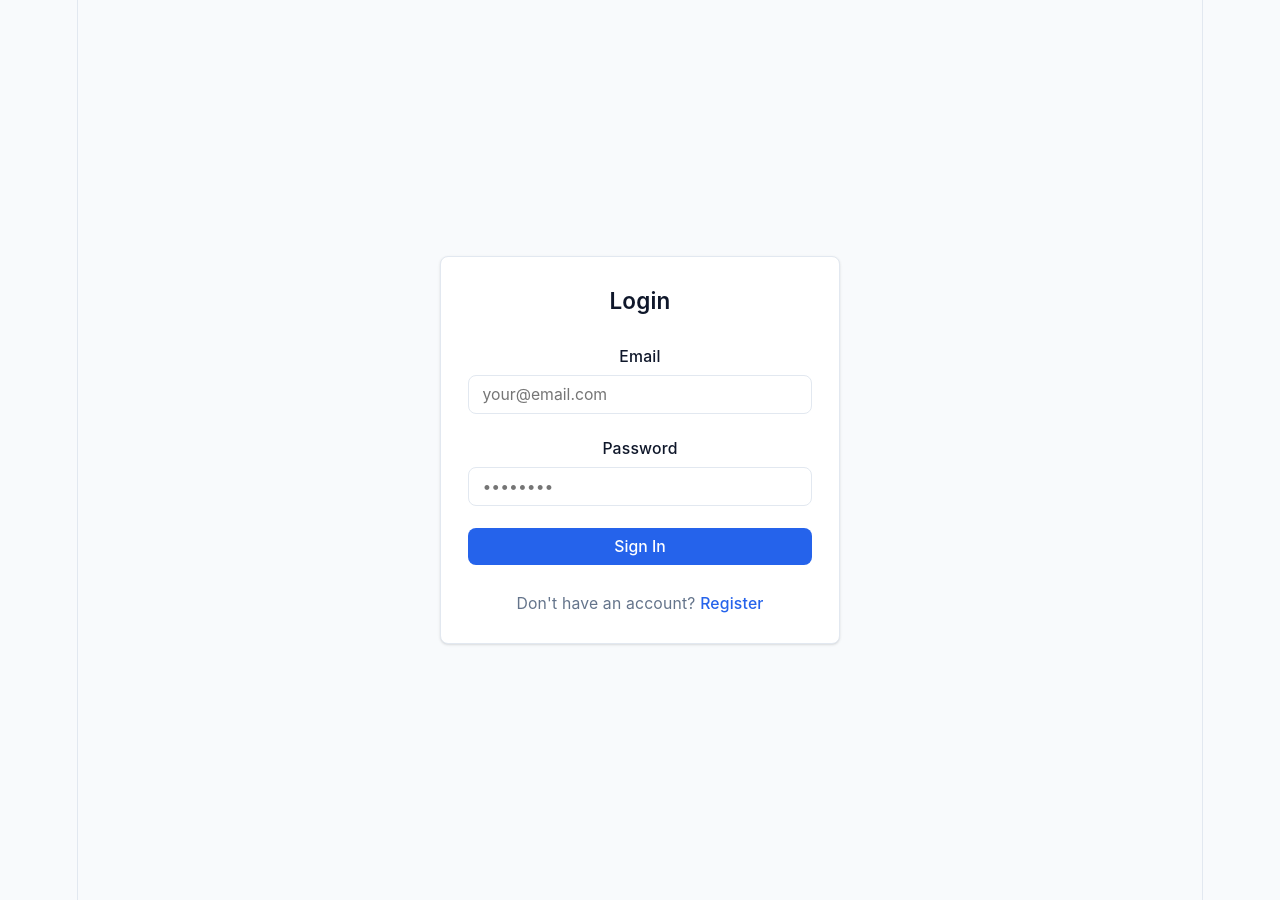
Test: Login Component › should show error messages for invalid input
The width and height of the screenshot is (1280, 900).
Click the button "Sign In" at (640, 547), box [468,528,812,565]
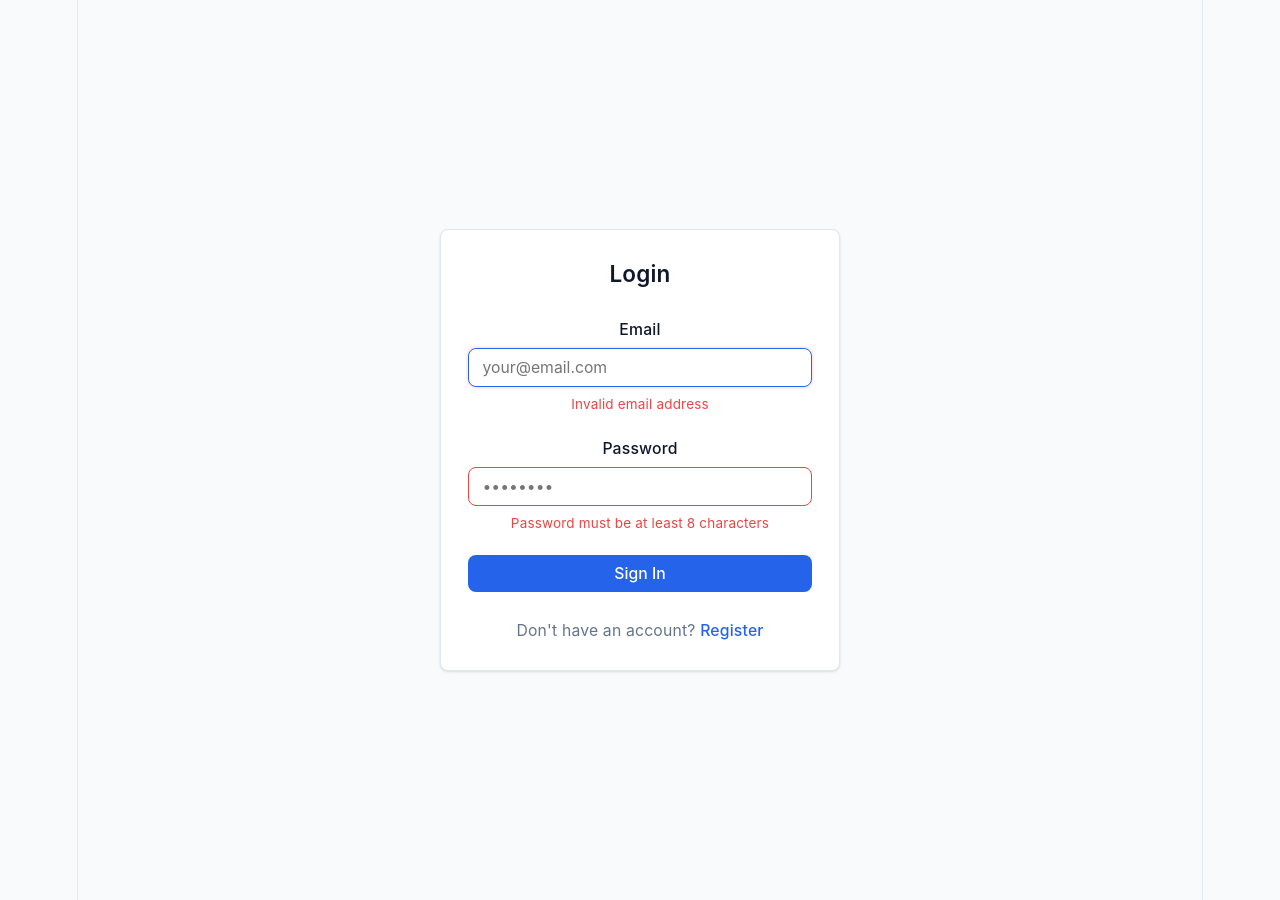
Result: the text "Invalid email address" is shown at [571,396,709,412]
Result: the text "Password must be at least 8 characters" is shown at [511,515,769,531]
